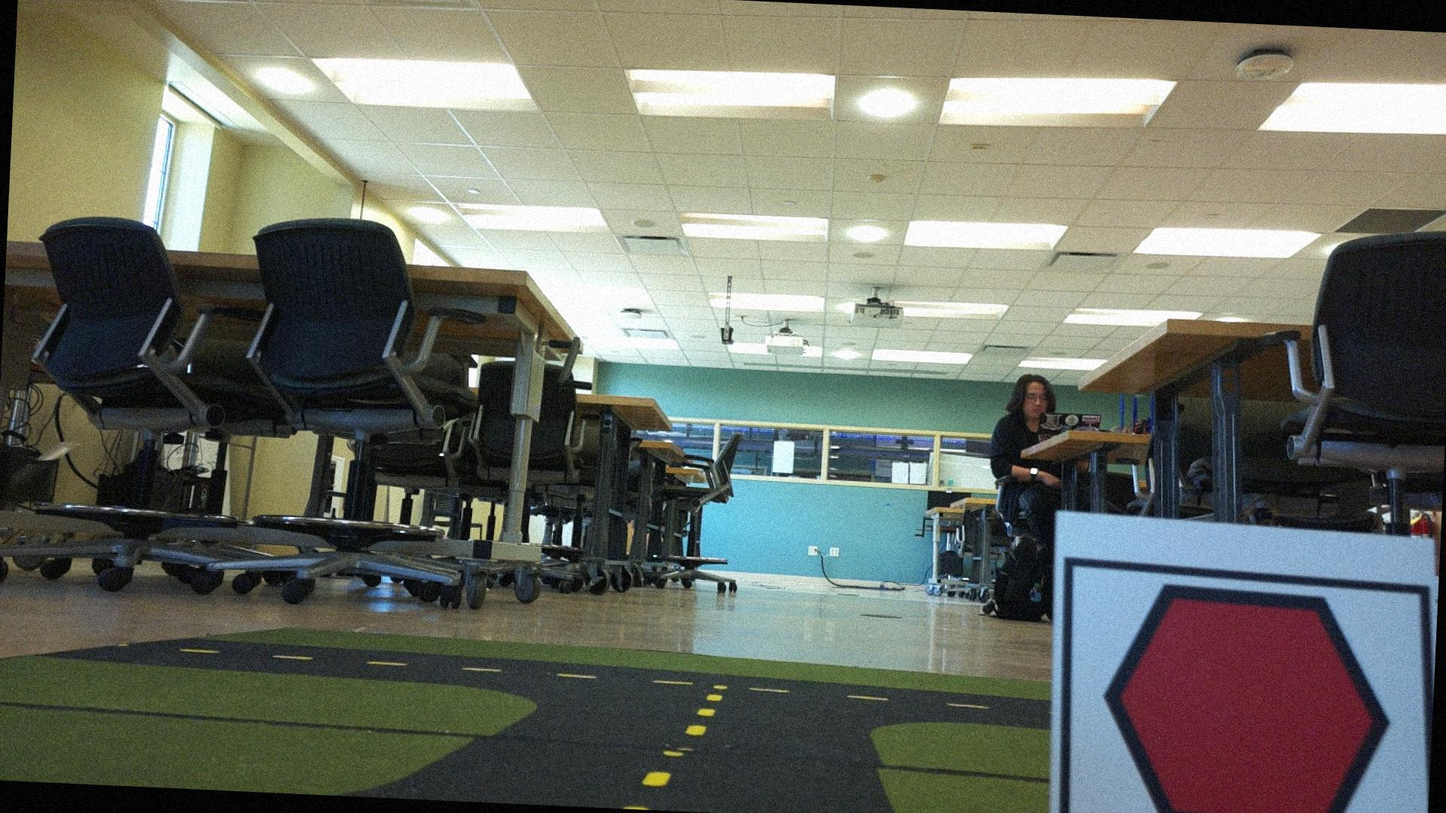stop: (1079, 577, 1414, 812)
yellowline: (642, 690, 721, 788)
